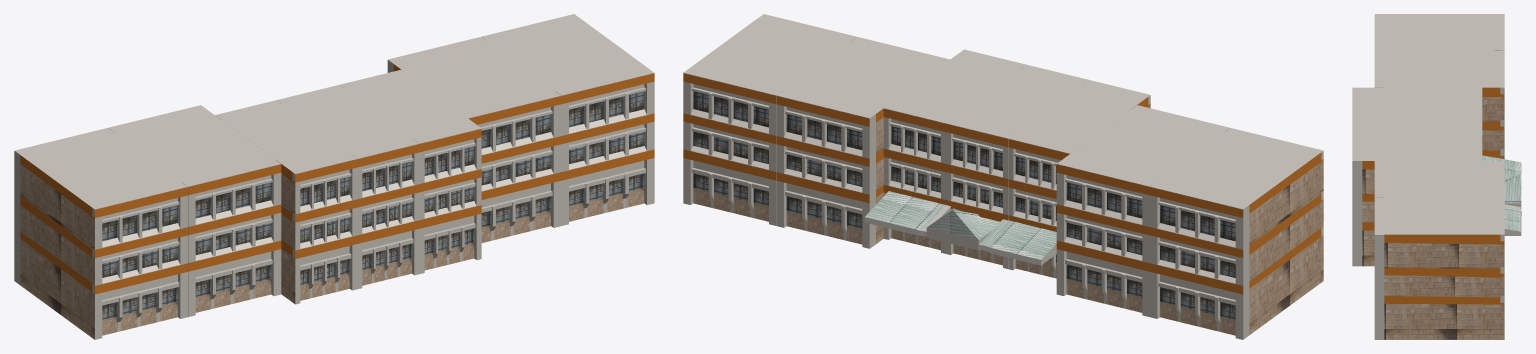
File: cse.fbx
3 renders of one model, left to right at view 1: azimuth 30°, elevation 25°; view 2: azimuth 150°, elevation 25°; view 3: azimuth 270°, elevation 25°, orthographic. The views are drawn at different scales.
Visible parts, largest first — view 1: box.002; view 2: box.002; view 3: box.002.
Boxes of the visible parts, x1,y1,x2,y2 form: box.002: (14,14,654,339); box.002: (683,14,1323,339); box.002: (1352,14,1521,339).
Size of the model in its own units: 3600 by 802 by 1167.
